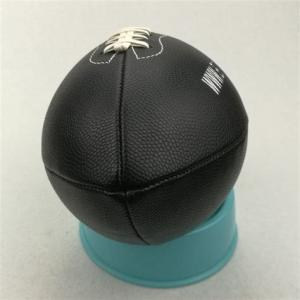Rugby: (40, 26, 249, 246)
